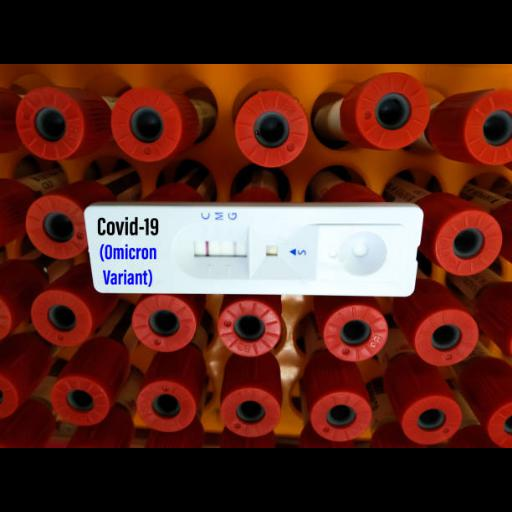Pos: (84, 206, 422, 294)
